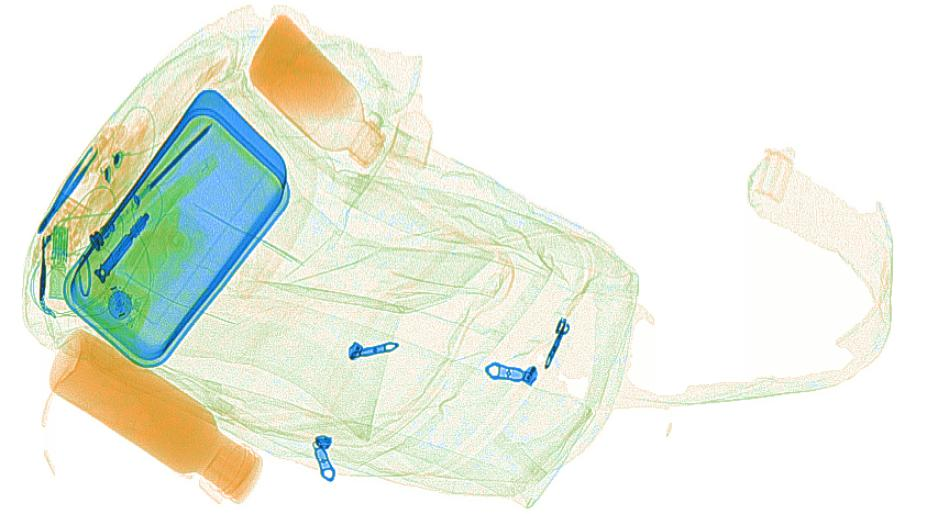USBFlashDisk: (47, 225, 70, 300)
